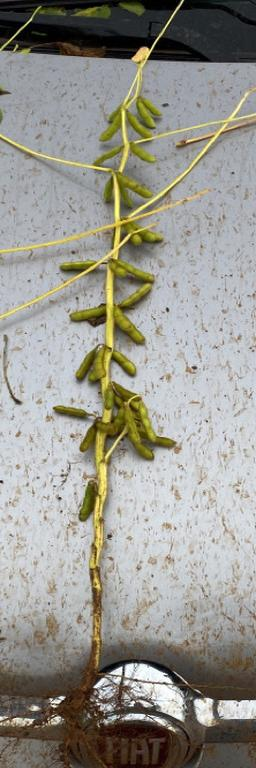pod: (114, 304, 146, 346), (77, 479, 97, 523), (52, 399, 90, 418), (74, 347, 95, 381), (67, 304, 106, 322), (113, 348, 137, 376), (79, 420, 96, 454)
soy: (55, 92, 190, 640)
